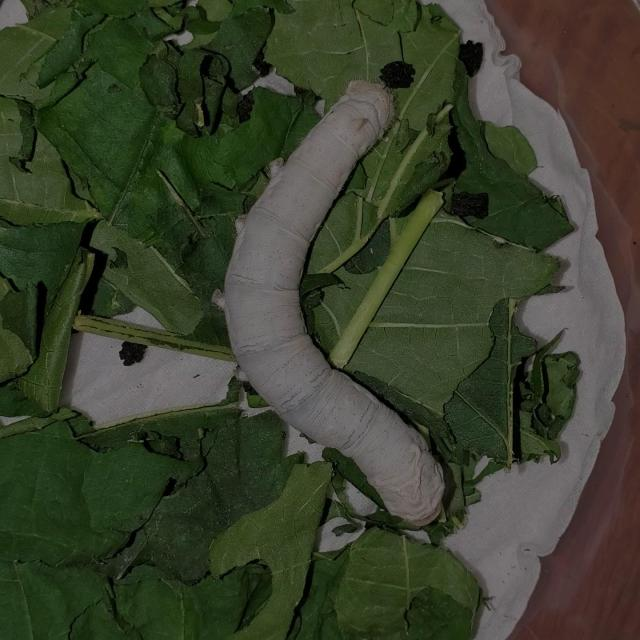Healthy: (207, 74, 453, 530)
